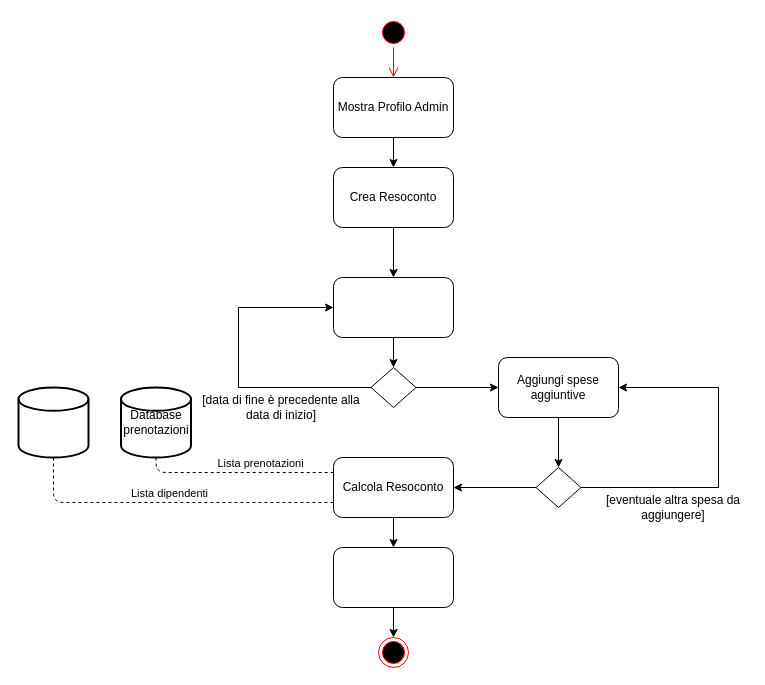
This 765x685 diagram has some shape labels left out. Each missing label, with the box of its shape:
Database dipendenti: (17, 386, 89, 458)
Mostra Resoconto: (332, 546, 454, 608)
Seleziona data inizio/fine: (332, 276, 454, 338)
